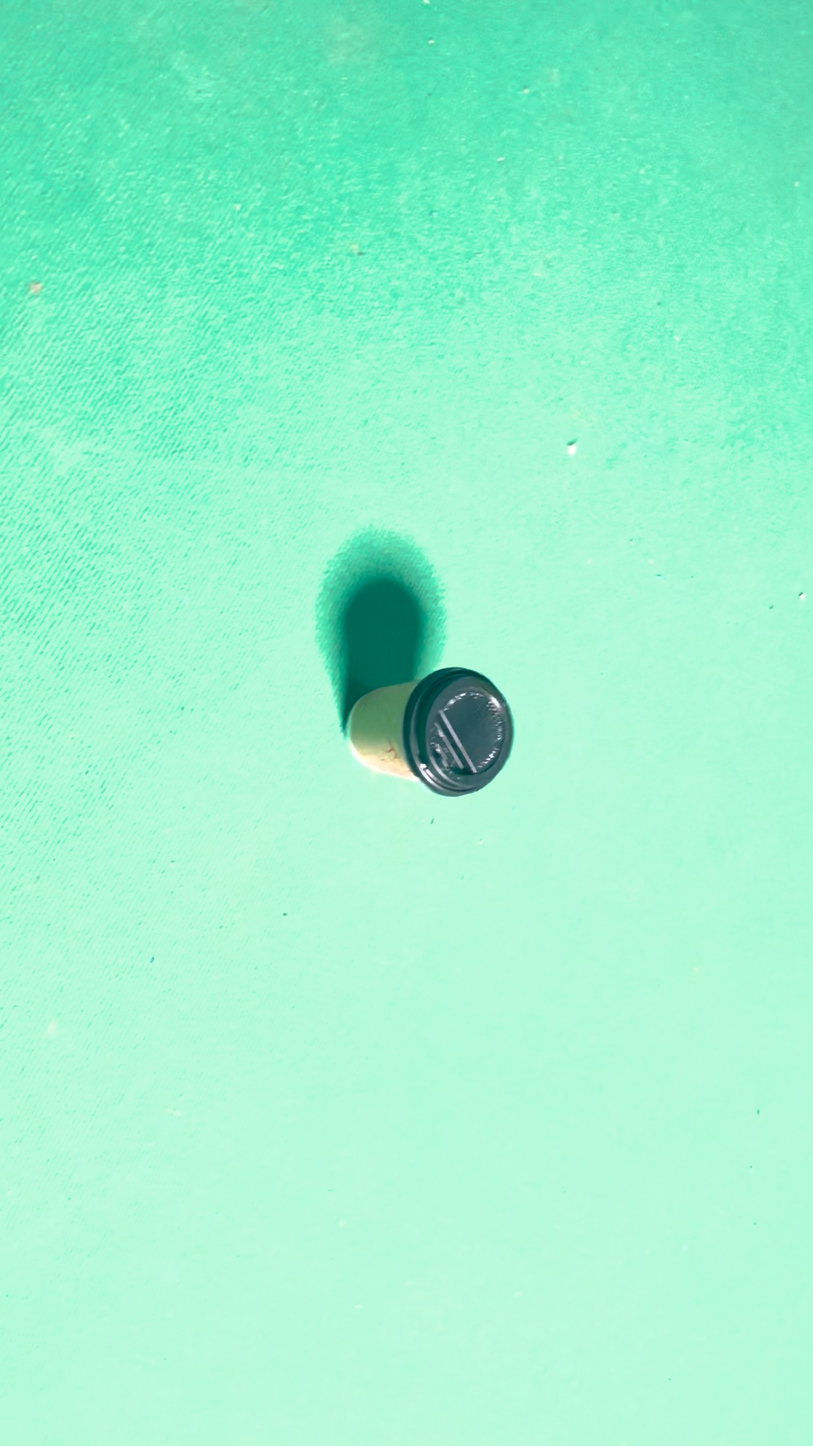cup: (407, 589, 487, 976)
